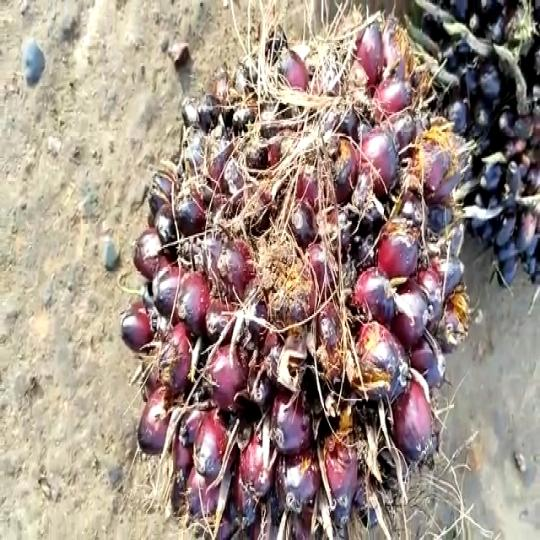kurang masak: (121, 4, 472, 540)
